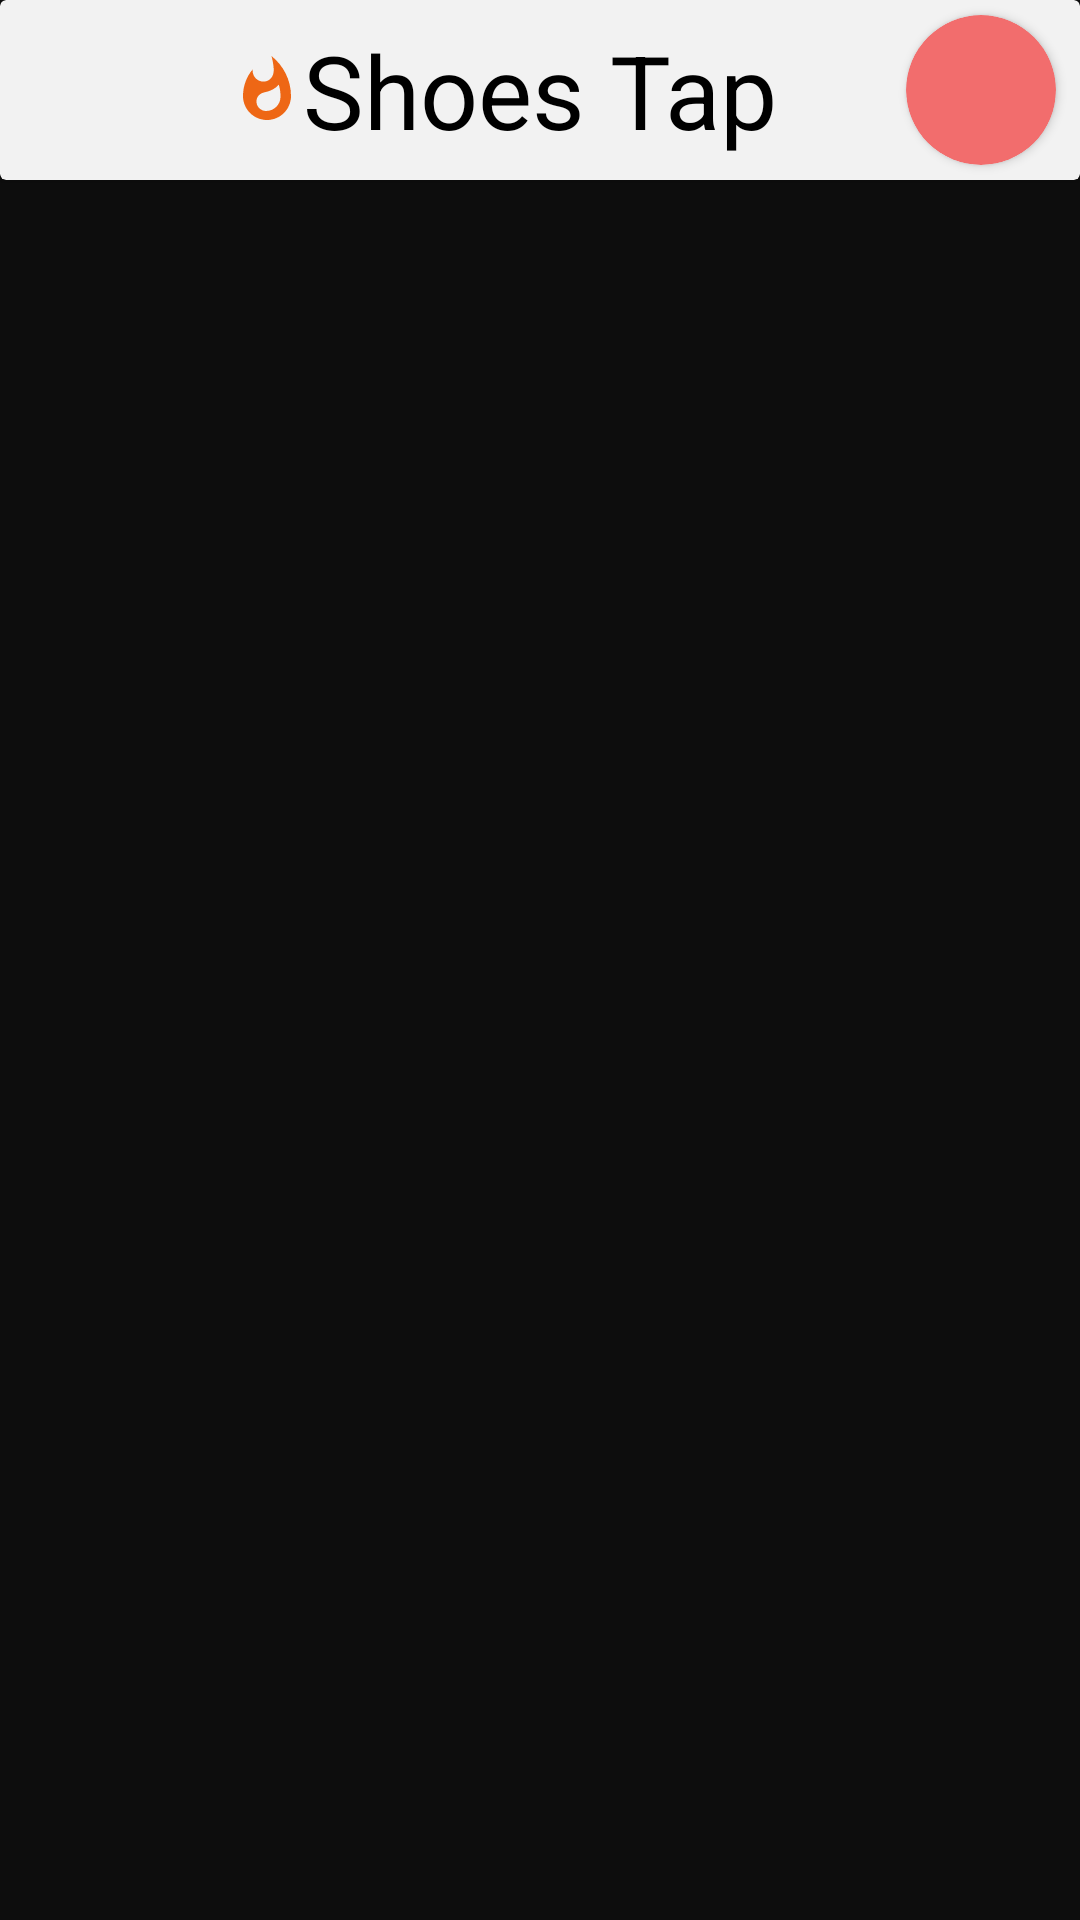

Named icons in this screenshot (1080px×1920px) and their bounding boxes, (x1, y1, x2, y2):
whatshot: (243, 56, 291, 120)
